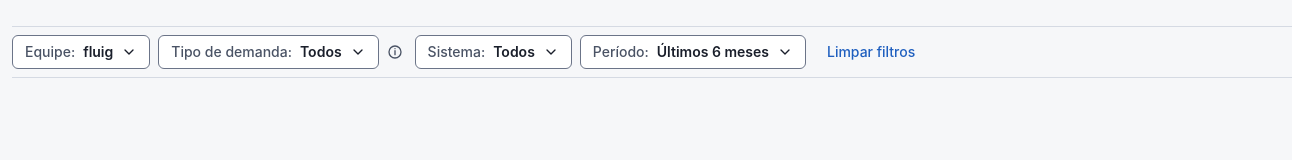
Test: filtros ↔ URL › "Limpar filtros" só aparece com filtro fora do padrão, restaura o padrão e anuncia "Filtros limpos."
Check: the button with test id "filtro-equipe" is shown, box 12,35 -> 150,69
Click the button with test id "limpar-filtros".
click(871, 52)  # box 814,35 -> 928,69
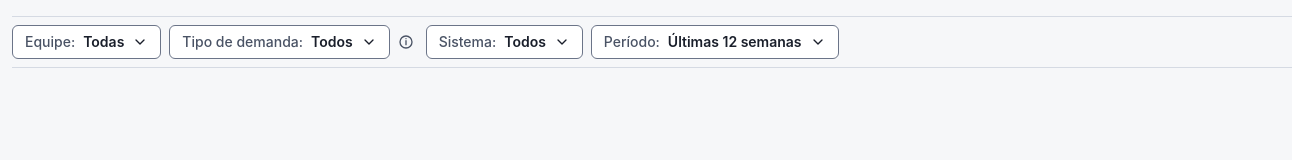
Check: the button with test id "limpar-filtros" is gone
